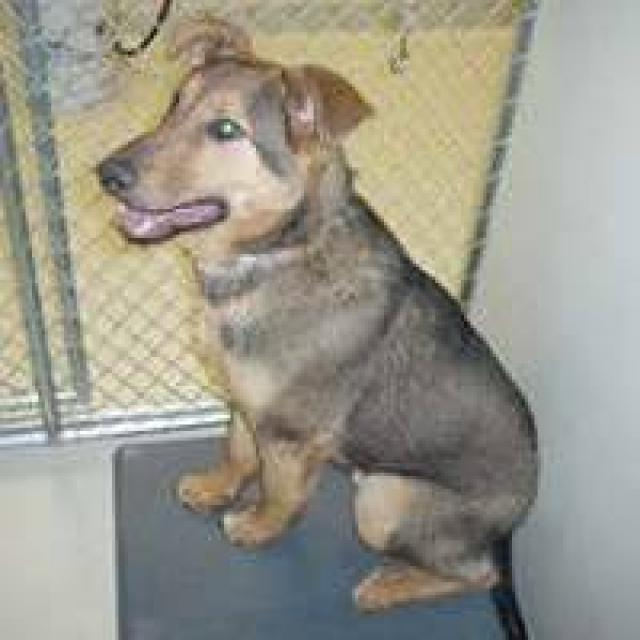Dog: (92, 7, 384, 256)
